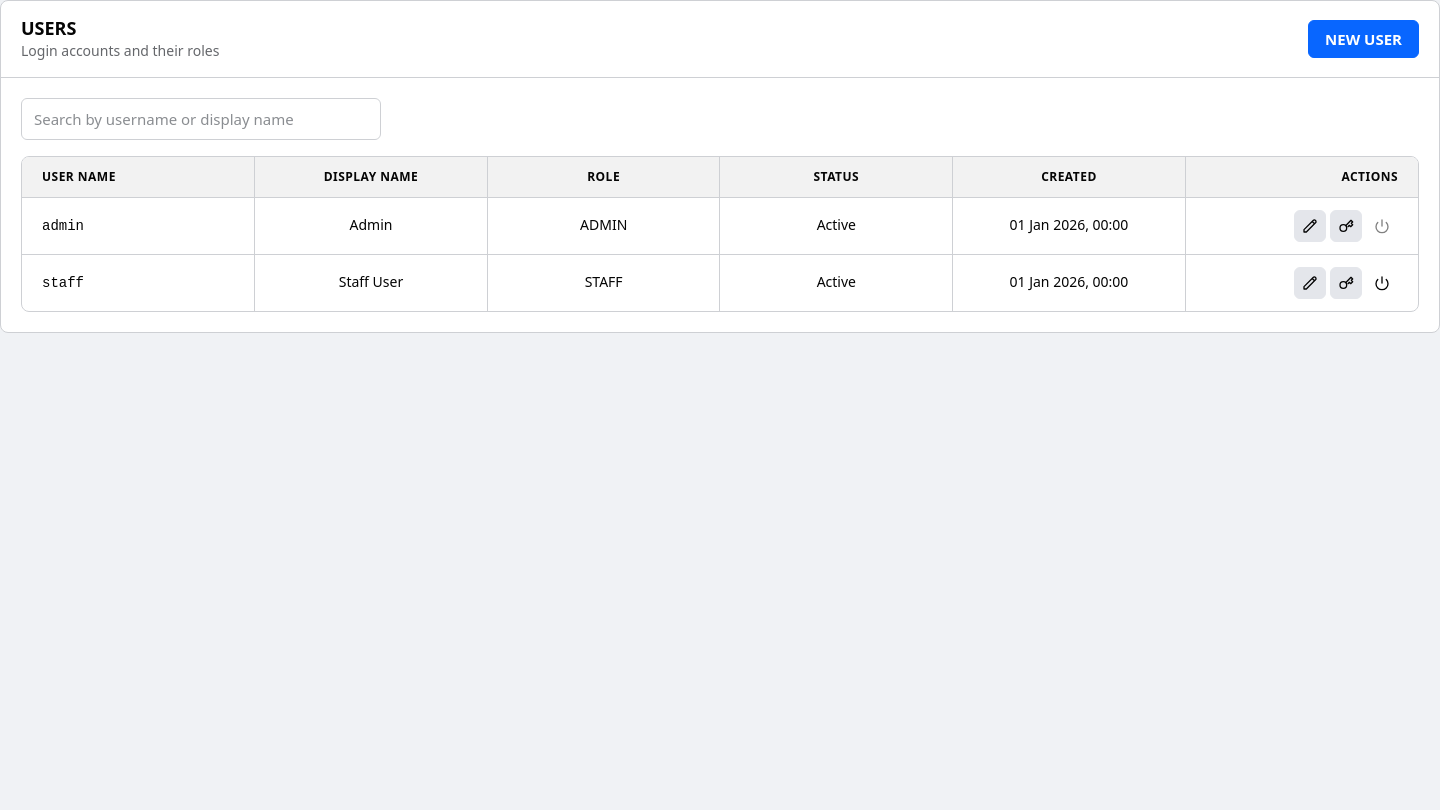
UsersSection › opens the edit modal without password fields
This screenshot has width=1440, height=810.
Expected: the text "staff" is shown, [42,275,84,291]
Click the button named "edit" in the row of "Staff User" at (1310, 283), box [1294,267,1326,299]
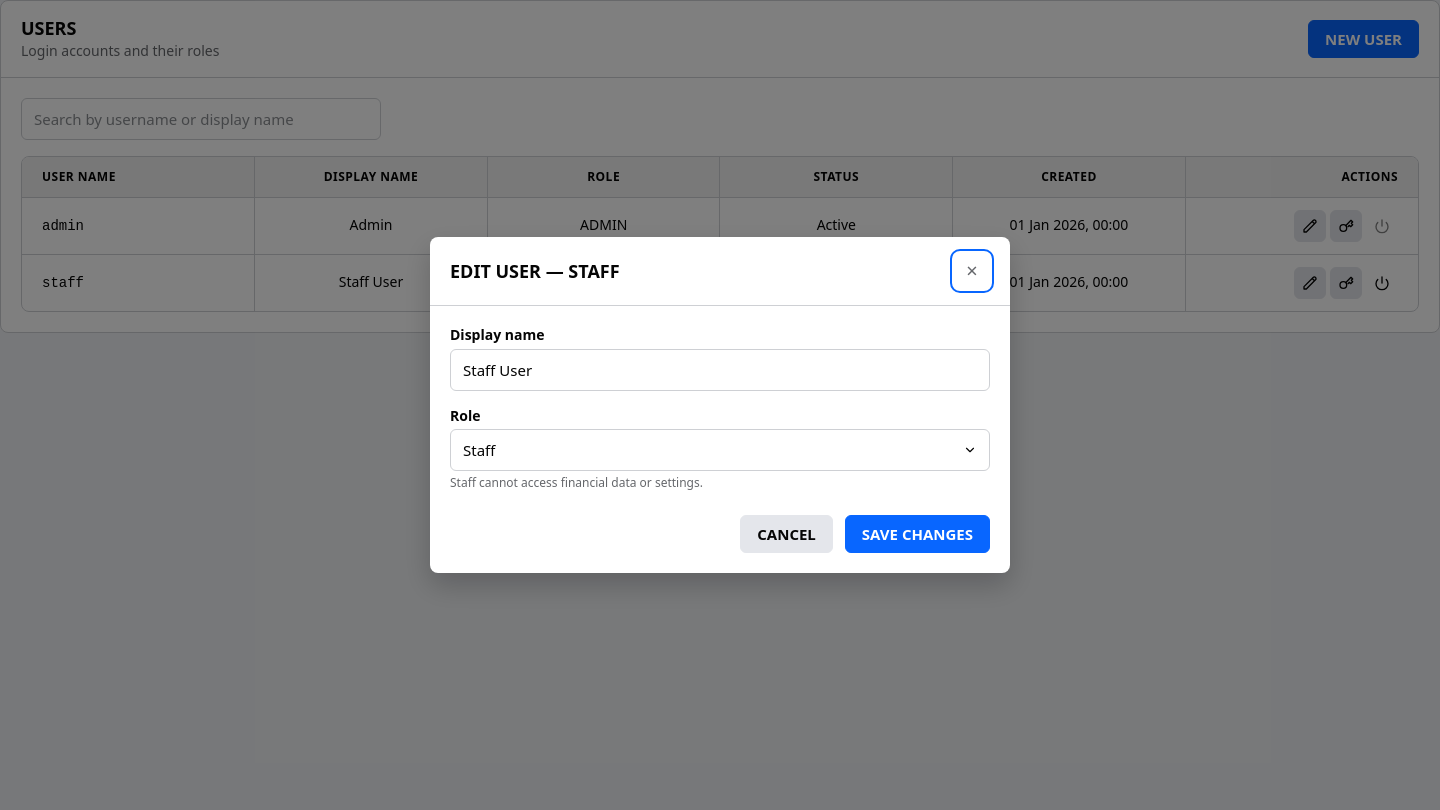
Result: the field showing "Staff User" is shown at [450,348,990,390]
